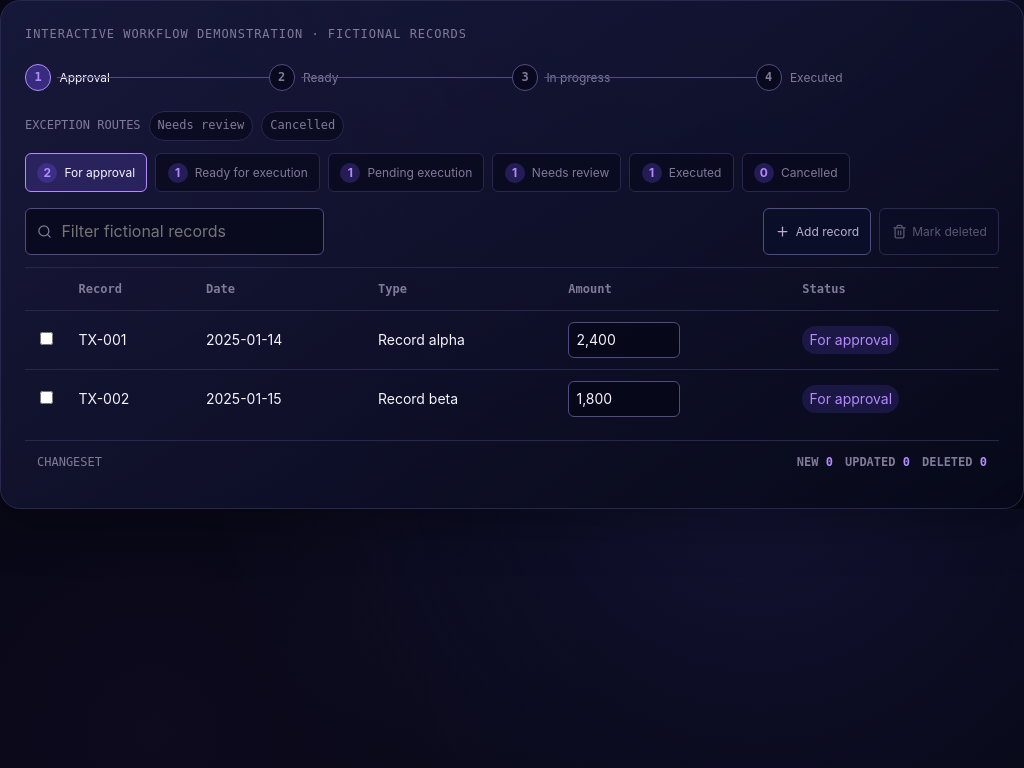
Test: TradeWorkflowDemo › tracks change counts and validation feedback for local edits
Clear the field named "Amount for TX-001" at (624, 340), box [568,322,680,358]
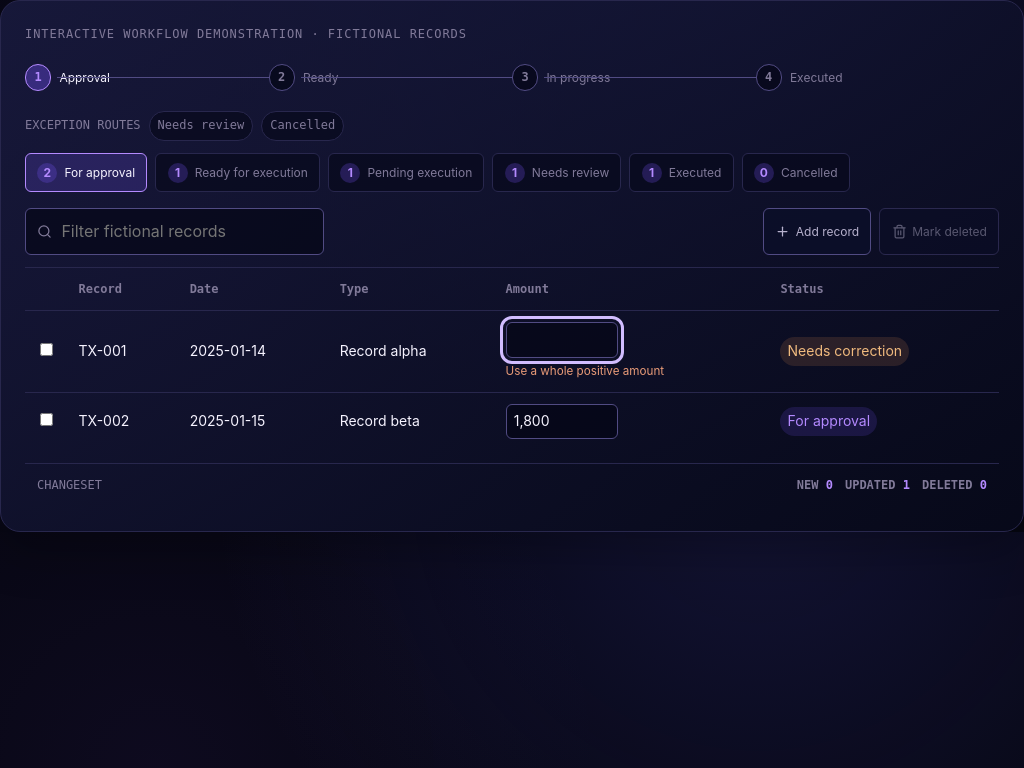
Type "not a number" into the field named "Amount for TX-001" at (562, 340), box [506,322,618,358]
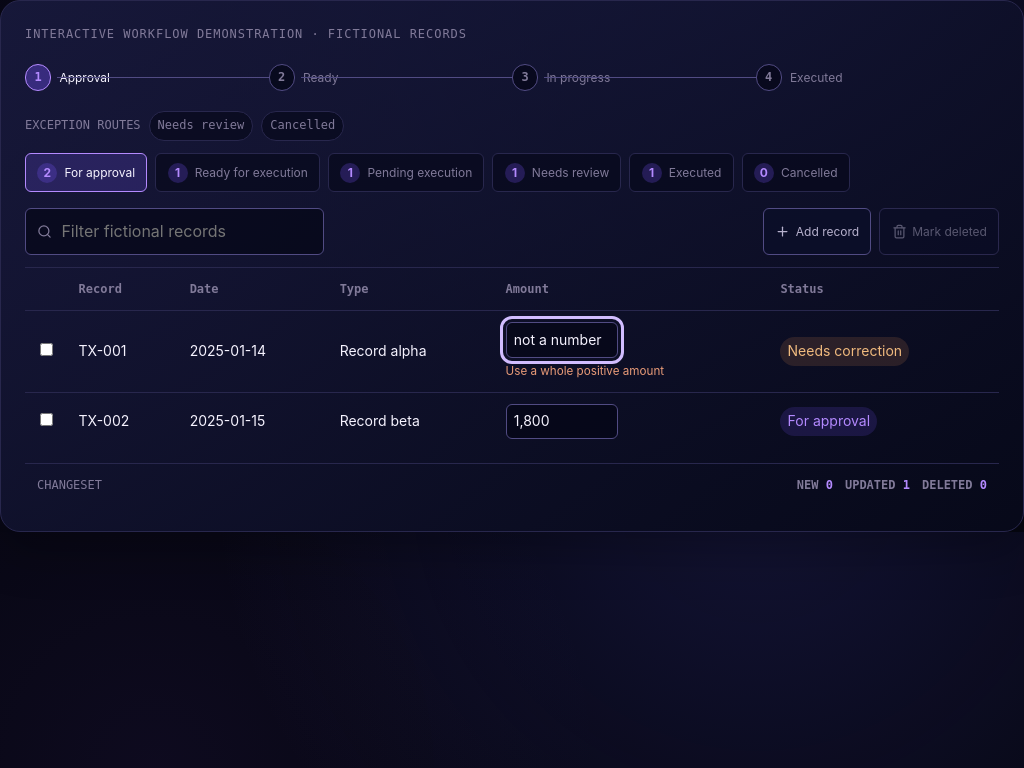
Check: the text "Needs correction" is shown, box [780,337,909,366]
Check: the text named "Updated records" reads "1", box [903,478,910,492]
Replace the text in the field named "Amount for TX-001" with "2,500" at (562, 340), box [506,322,618,358]
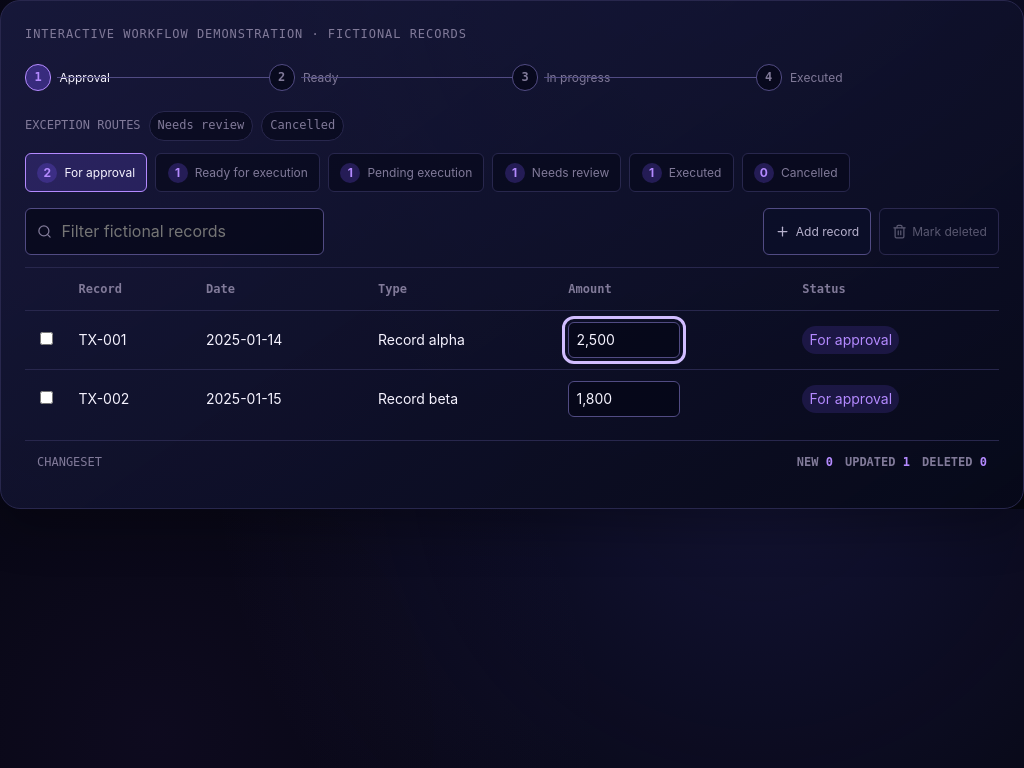
Check: the text named "Updated records" reads "1", box [903,455,910,469]
Check: the text "Needs correction" is gone
Click the checkbox named "Select TX-001" at (47, 338), box [40,332,53,345]
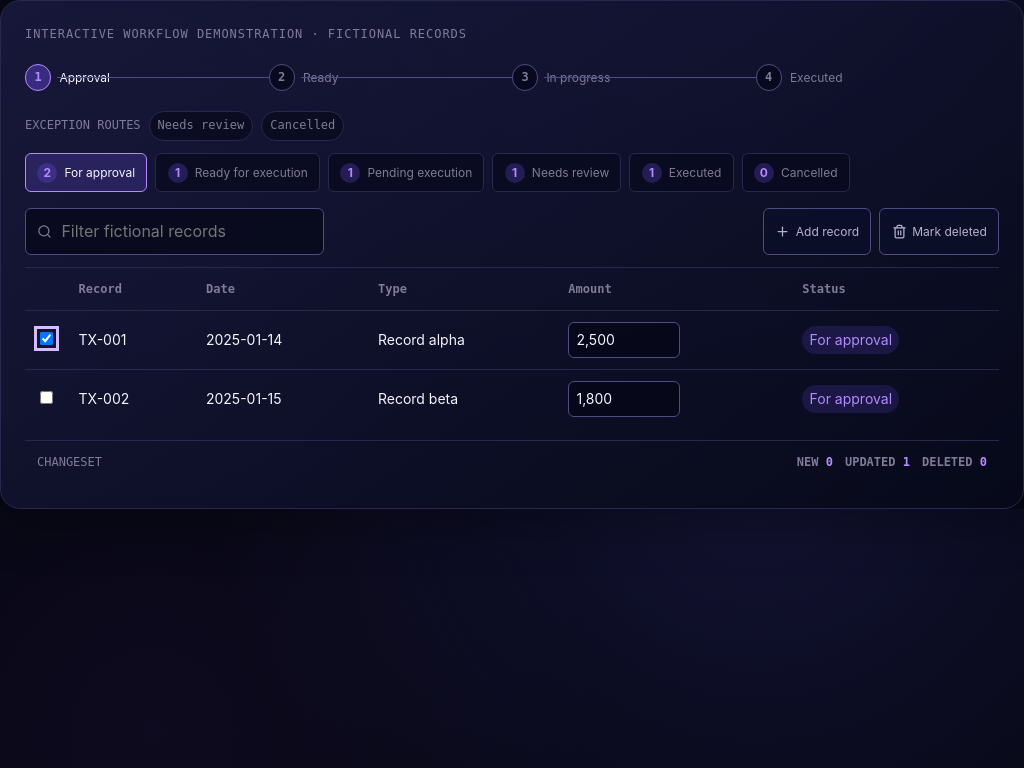
Click the button "Mark deleted" at (939, 232), box [879,208,999,256]
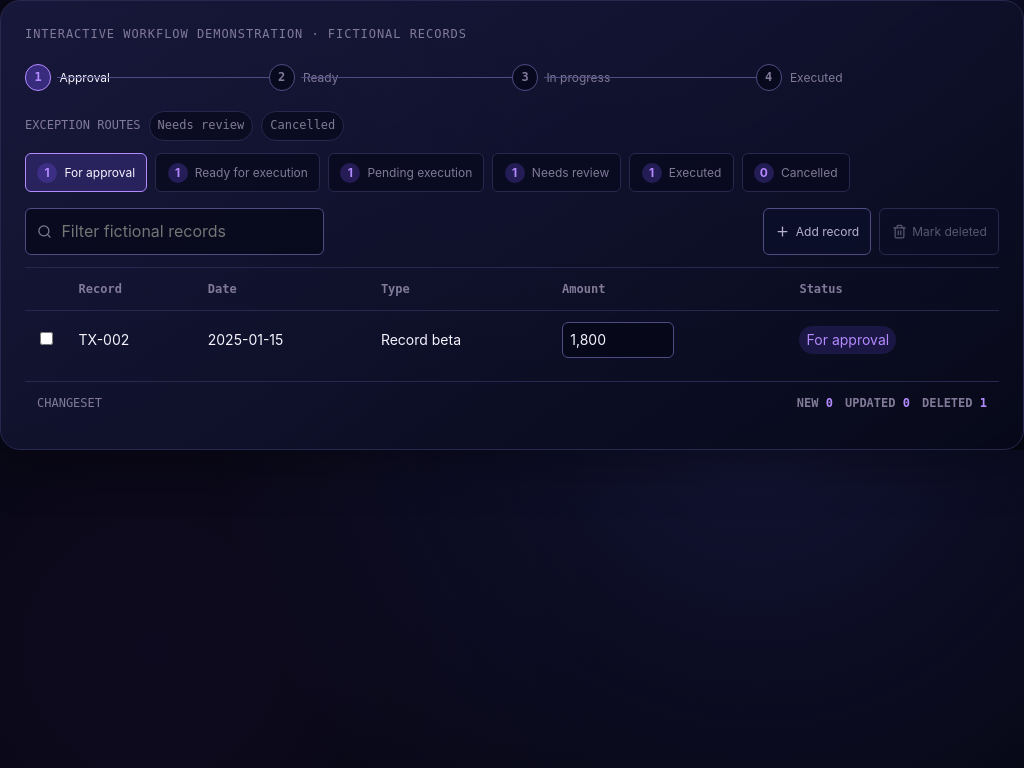
Check: the text named "Deleted records" reads "1", box [980,396,987,410]
